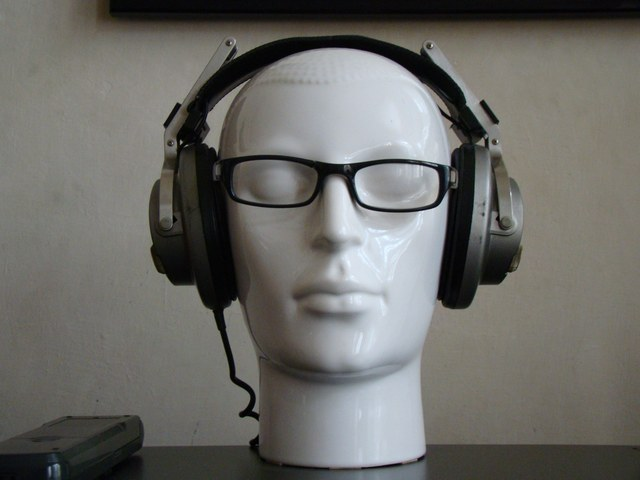Syska 20000mAh Power Bank: (32, 24, 608, 456)
